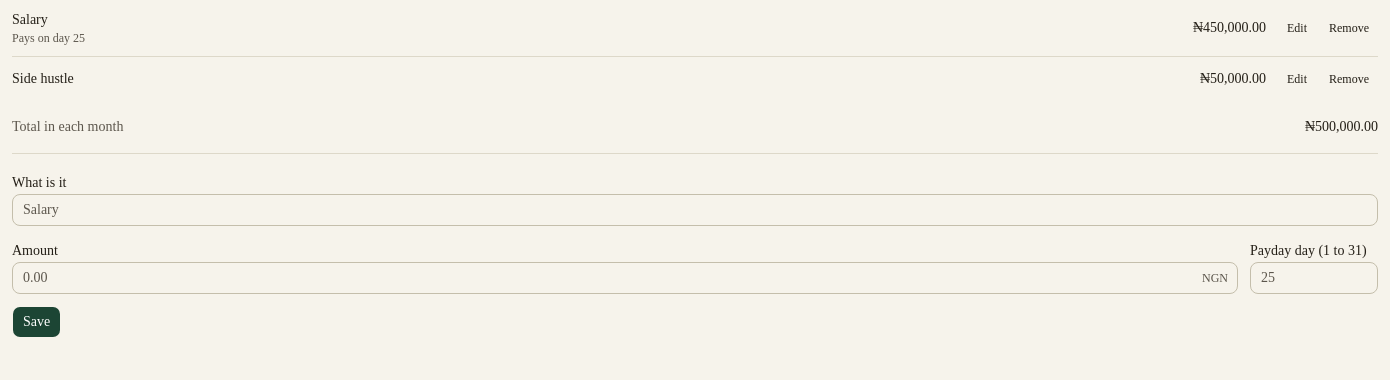
Test: EntryList failures (AC-10) › shows field errors inline when validation rejects, with no toast
This screenshot has width=1390, height=380.
Type "Gift" into the field labelled "What is it" at (695, 210), box [12,194,1378,226]
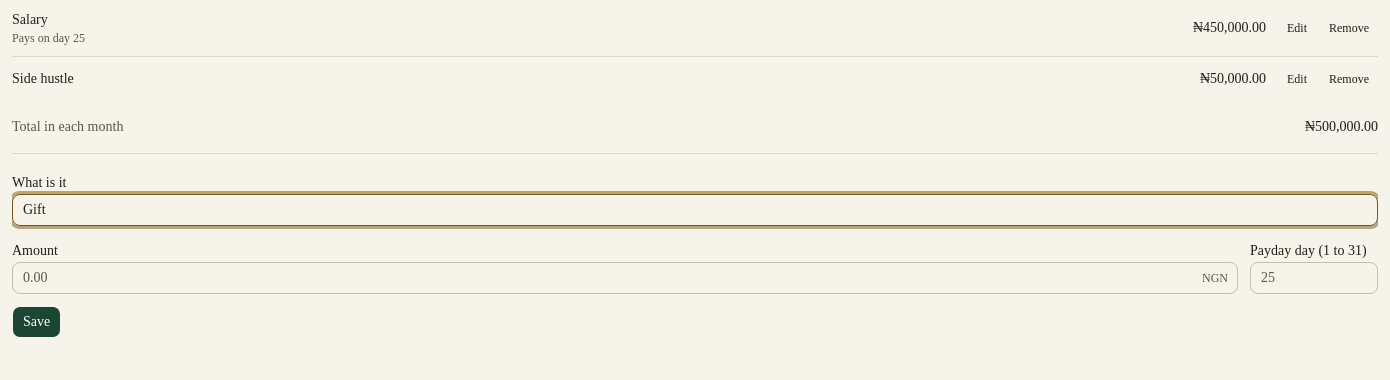
Type "0" into the field labelled "Amount" at (625, 278), box [12,262,1238,294]
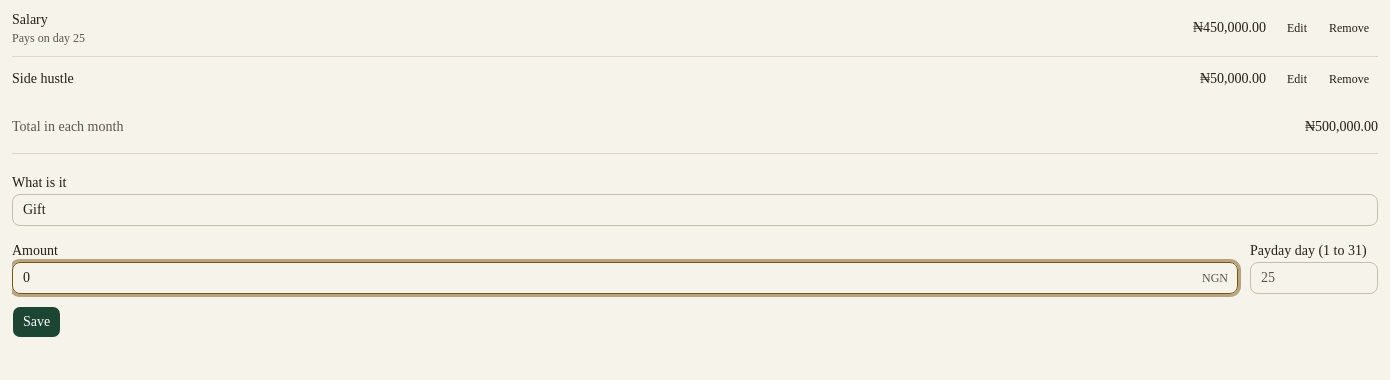
Click the button "Save" at (37, 322), box [12,306,61,338]
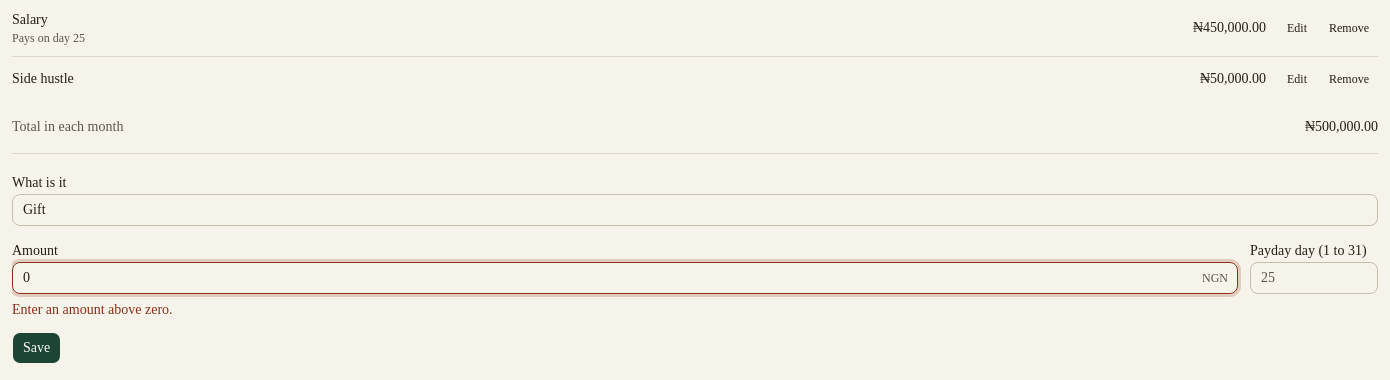
Now the message reads "Enter an amount above zero.", box [12,302,172,317]
